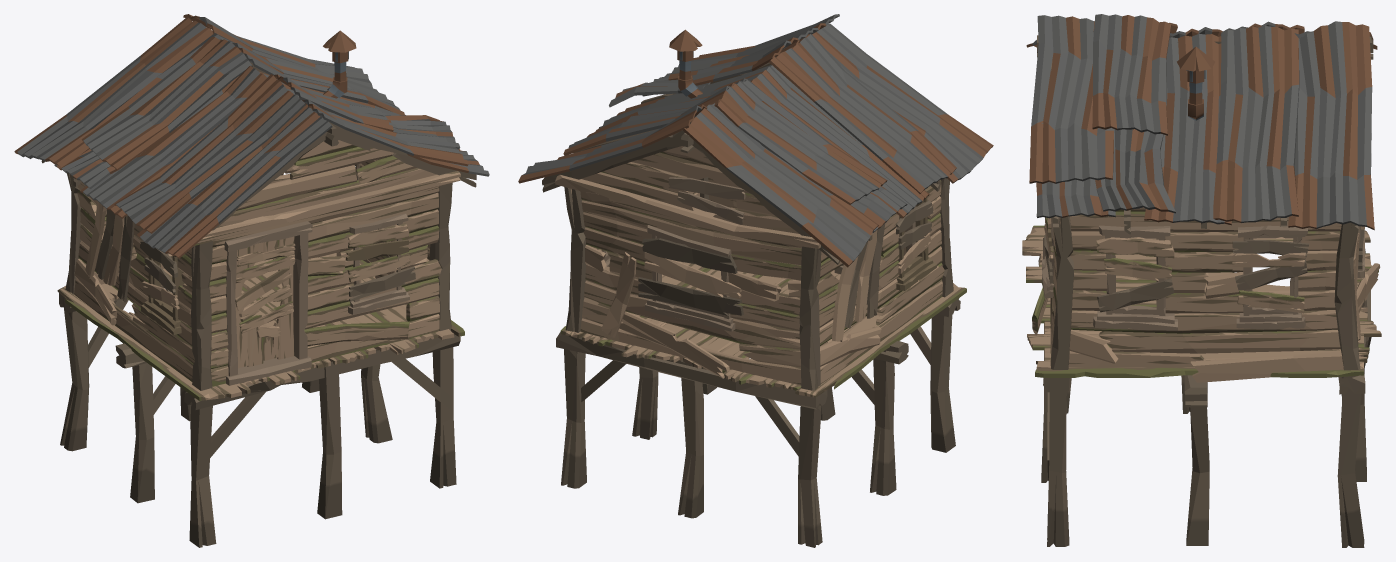
File: SM_Bld_Shack_Swamp_01.fbx
The picture shows the model from 3 angles, left to right: view 1: azimuth 30°, elevation 25°; view 2: azimuth 150°, elevation 25°; view 3: azimuth 270°, elevation 25°; orthographic projection. The views are drawn at different scales.
Parts seen in each view (by area): view 1: SM_Bld_Shack_Swamp_01, SM_Bld_SwampShack_01_Door_01; view 2: SM_Bld_Shack_Swamp_01; view 3: SM_Bld_Shack_Swamp_01.
Boxes of the visible parts, bbox=[...] form: SM_Bld_Shack_Swamp_01: bbox=[14, 14, 489, 547]; SM_Bld_SwampShack_01_Door_01: bbox=[235, 236, 295, 368]; SM_Bld_Shack_Swamp_01: bbox=[518, 14, 993, 547]; SM_Bld_Shack_Swamp_01: bbox=[1022, 14, 1381, 547].
Size of the model in its own units: 551 by 656 by 451.
